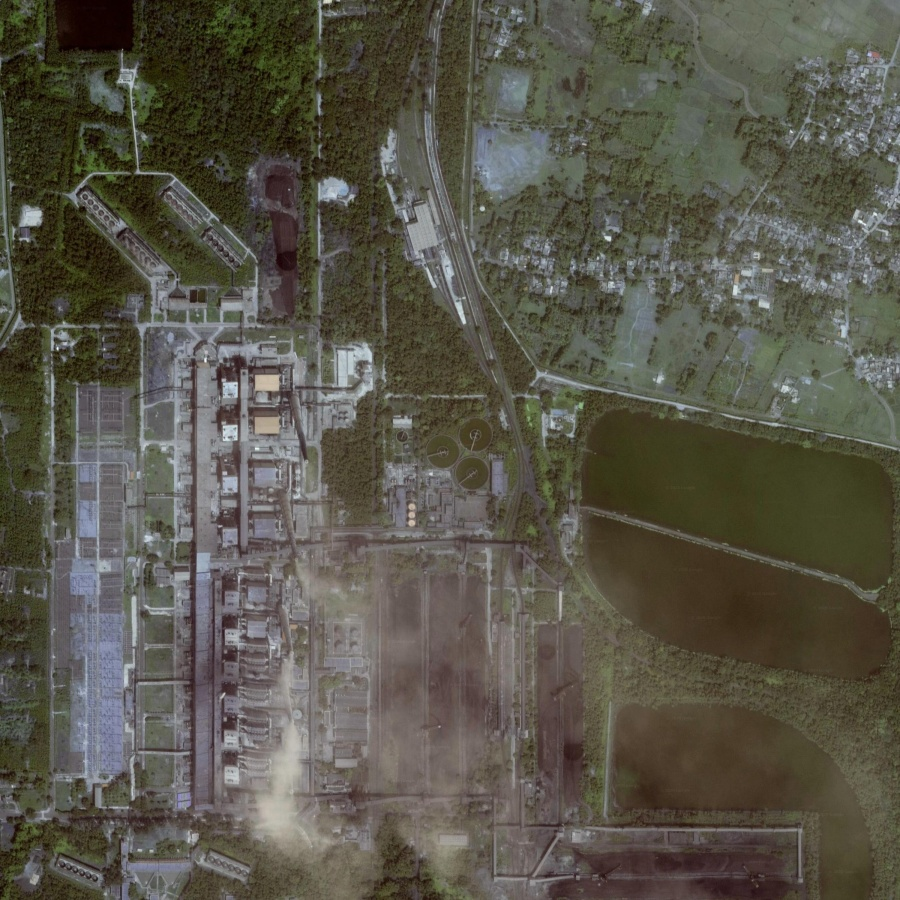PowerPlant: (265, 543, 596, 864)
